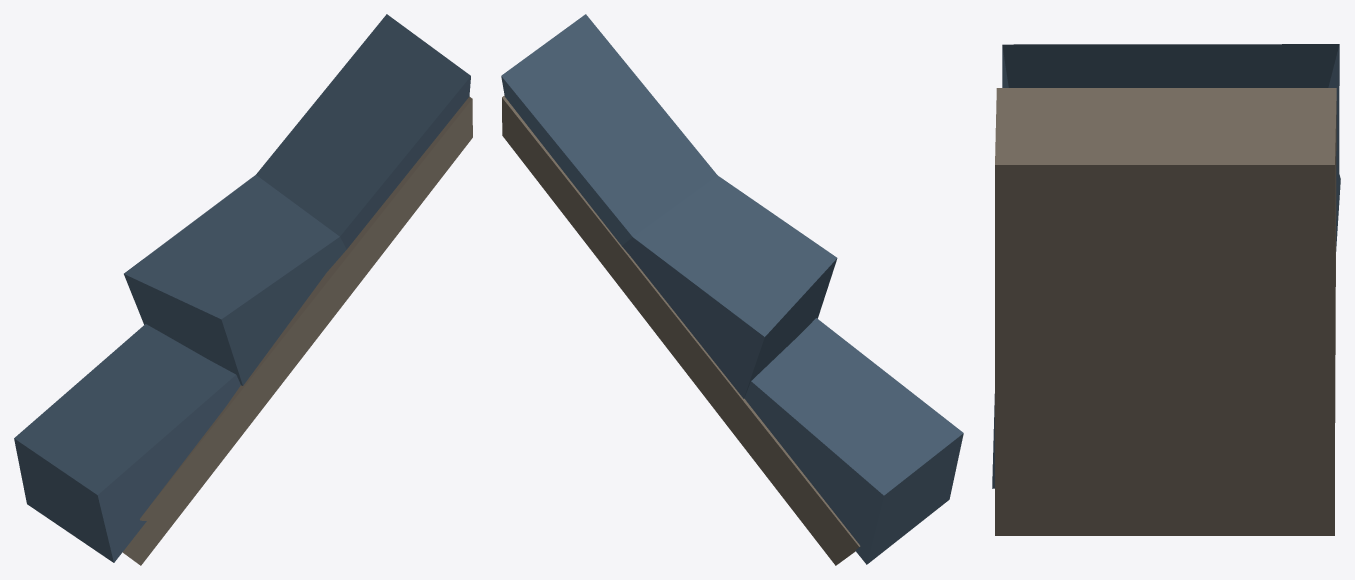
The model's file is _ROOF_TILE_SIDE_02_1.fbx.
The picture shows the model from 3 angles, left to right: view 1: azimuth 30°, elevation 25°; view 2: azimuth 150°, elevation 25°; view 3: azimuth 270°, elevation 25°; orthographic projection. The views are drawn at different scales.
Visible parts, largest first — view 1: ROOF_TILE_SIDE_02_1; view 2: ROOF_TILE_SIDE_02_1; view 3: ROOF_TILE_SIDE_02_1.
Part boxes in pixels (bbox=[...]): ROOF_TILE_SIDE_02_1: bbox=[14, 14, 472, 565]; ROOF_TILE_SIDE_02_1: bbox=[501, 14, 963, 565]; ROOF_TILE_SIDE_02_1: bbox=[992, 44, 1340, 535].
Bounding box in the file's own units: 56.78 × 58.7 × 22.74.
